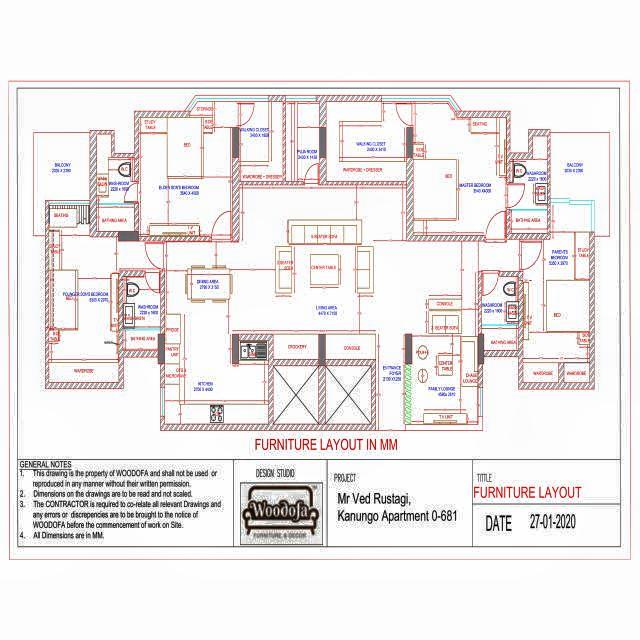room: (239, 189, 405, 331), (48, 202, 118, 384), (139, 101, 232, 237), (414, 104, 506, 234), (413, 241, 479, 422), (164, 317, 268, 423), (522, 238, 589, 382), (325, 103, 413, 181), (551, 134, 609, 236), (34, 133, 91, 234), (167, 243, 238, 310), (97, 133, 135, 230), (509, 135, 547, 232), (241, 102, 282, 179), (482, 275, 518, 350), (123, 277, 160, 347), (287, 102, 319, 179), (288, 177, 288, 179)
